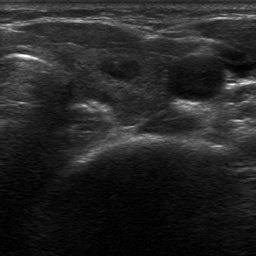mass: (99, 54, 141, 80)
